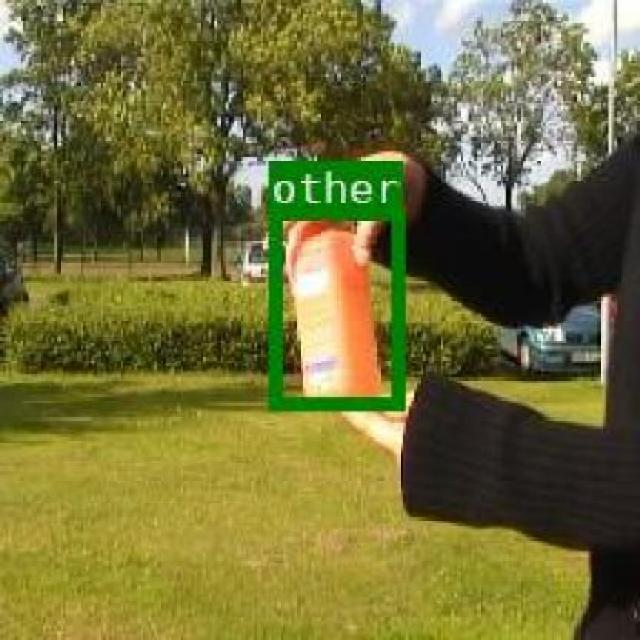other: (266, 206, 400, 408)
